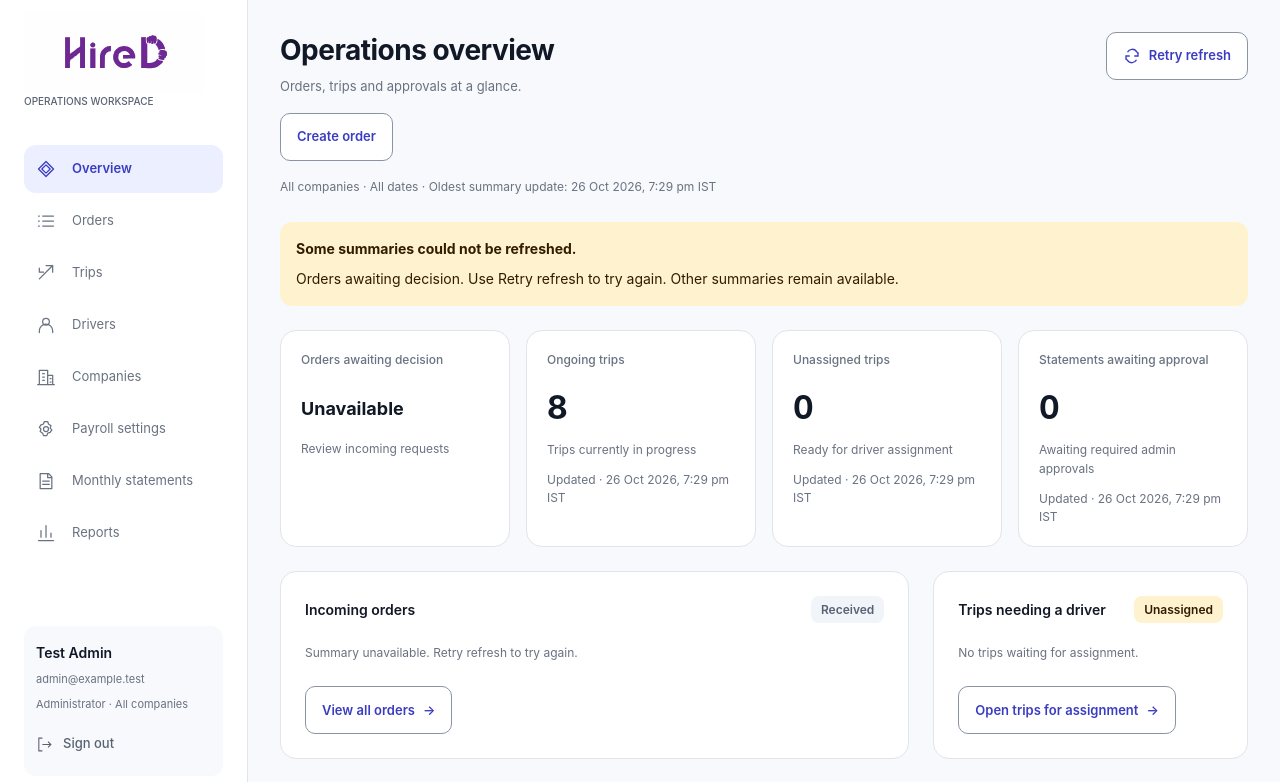
Test: operations overview › isolates a failed section and allows recovery through one explicit refresh
The width and height of the screenshot is (1280, 782).
(page scrolled)
Expected: the message that starts with "Some summaries could not be refreshed." is shown, [296, 240, 576, 257]
Expected: the text "Unavailable" is shown, [301, 398, 404, 419]
Click the button "Retry refresh".
click(1177, 56)  # box [1106, 32, 1248, 80]
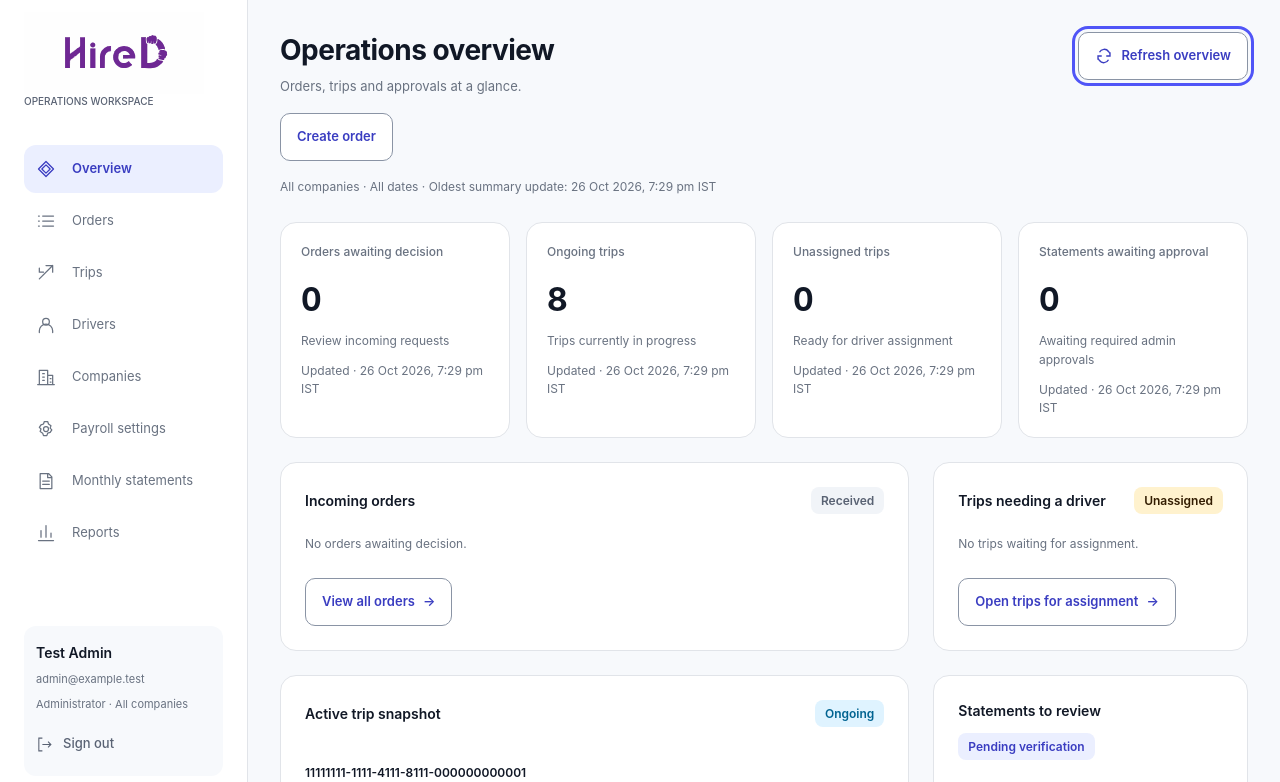
Expected: the 1st text "0" is shown, [301, 280, 322, 319]
